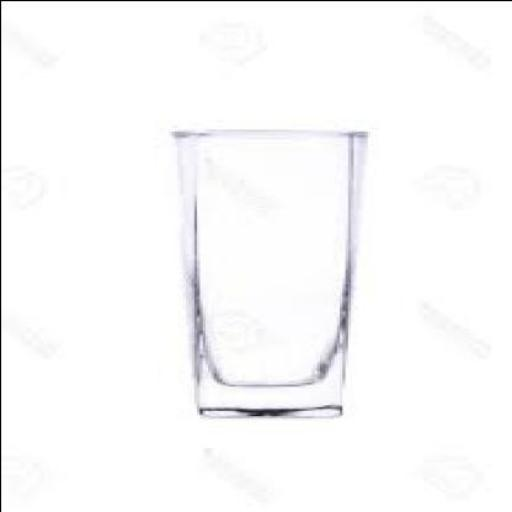glass: (176, 128, 369, 416)
